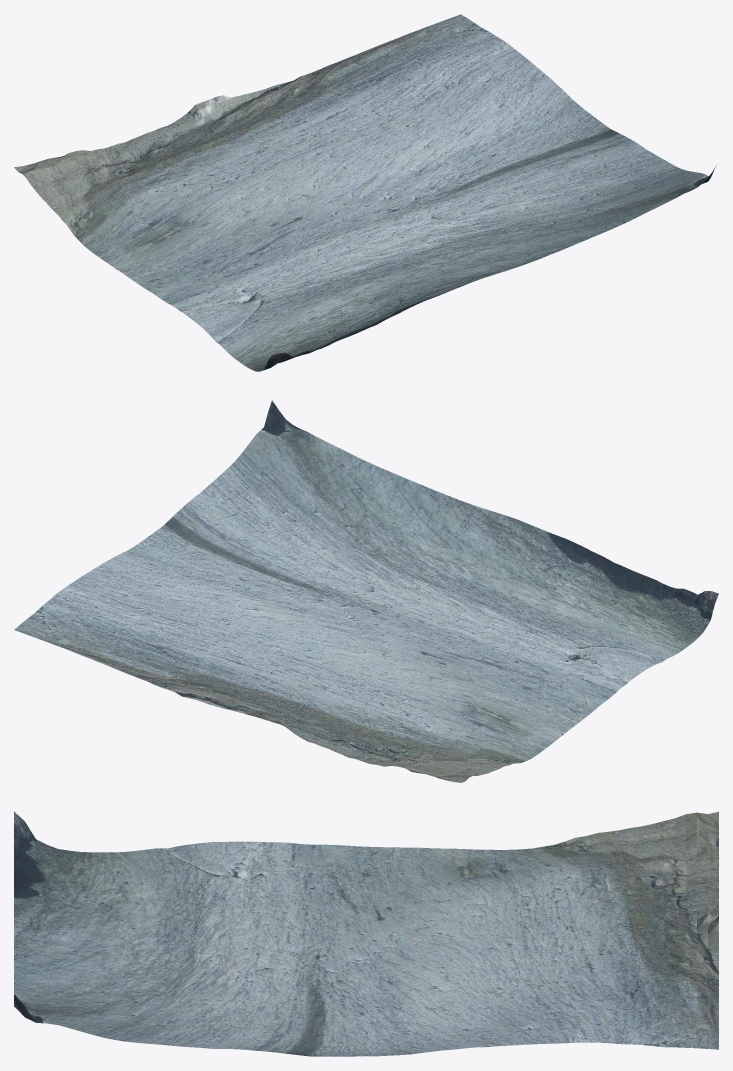
The model's file is Silv_tile_5.gltf.
3 renders of one model, top to bottom at view 1: azimuth 30°, elevation 25°; view 2: azimuth 150°, elevation 25°; view 3: azimuth 270°, elevation 25°, orthographic. The views are drawn at different scales.
Parts seen in each view (by area): view 1: 18.023; view 2: 18.023; view 3: 18.023.
Boxes of the visible parts, x1,y1,x2,y2 form: 18.023: [14, 14, 716, 371]; 18.023: [14, 400, 718, 782]; 18.023: [14, 811, 718, 1056].
Bounding box in the file's own units: 0.5 × 0.1227 × 0.5.
Materials: 1 (1 with a texture image).
